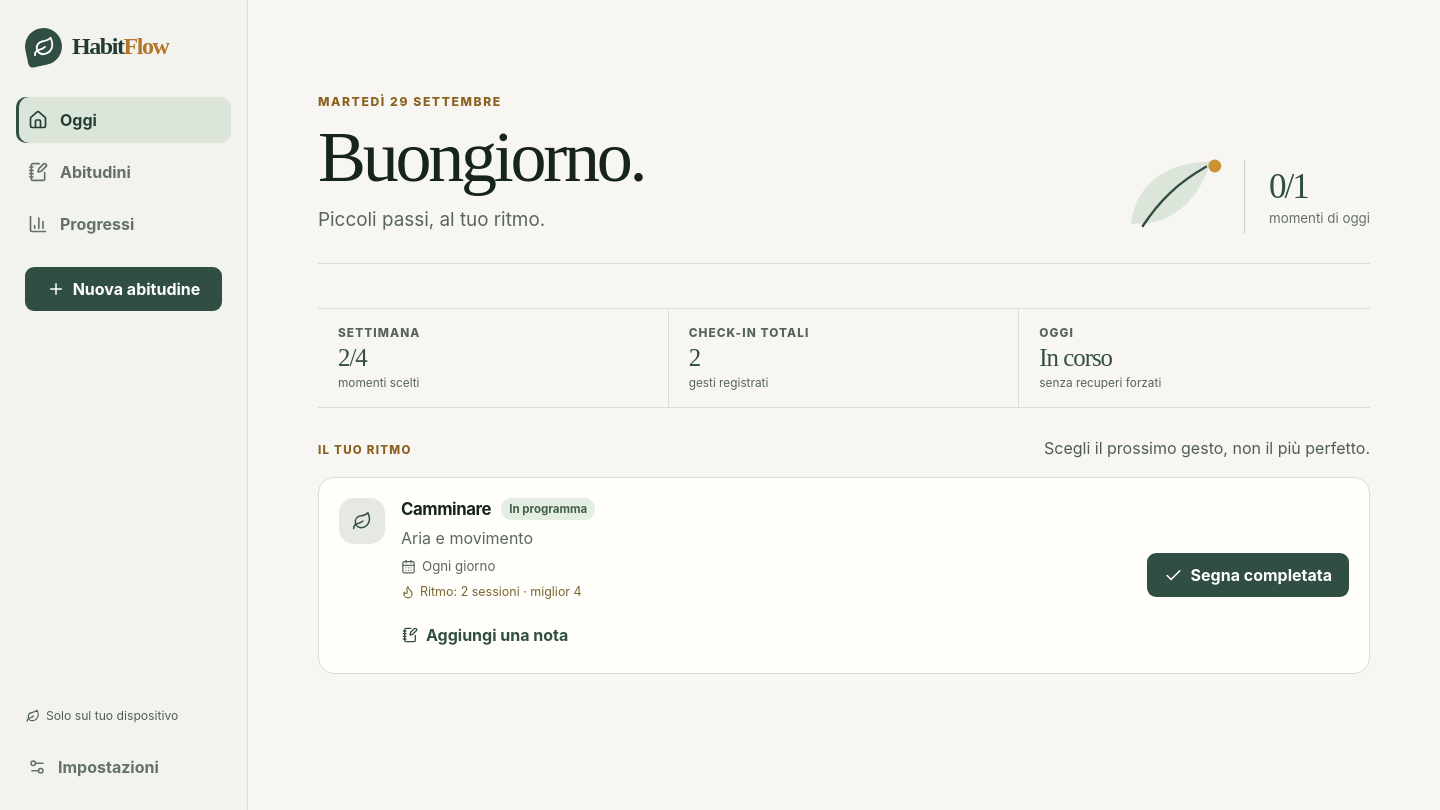
Test case: HabitFlow UI › retries analytics after an error instead of leaving a dead Retry control
The image size is (1440, 810).
Expected: the heading "Buongiorno." is shown, [318, 122, 644, 193]
Click the button "Progressi": (124, 224) [16, 201, 231, 247]
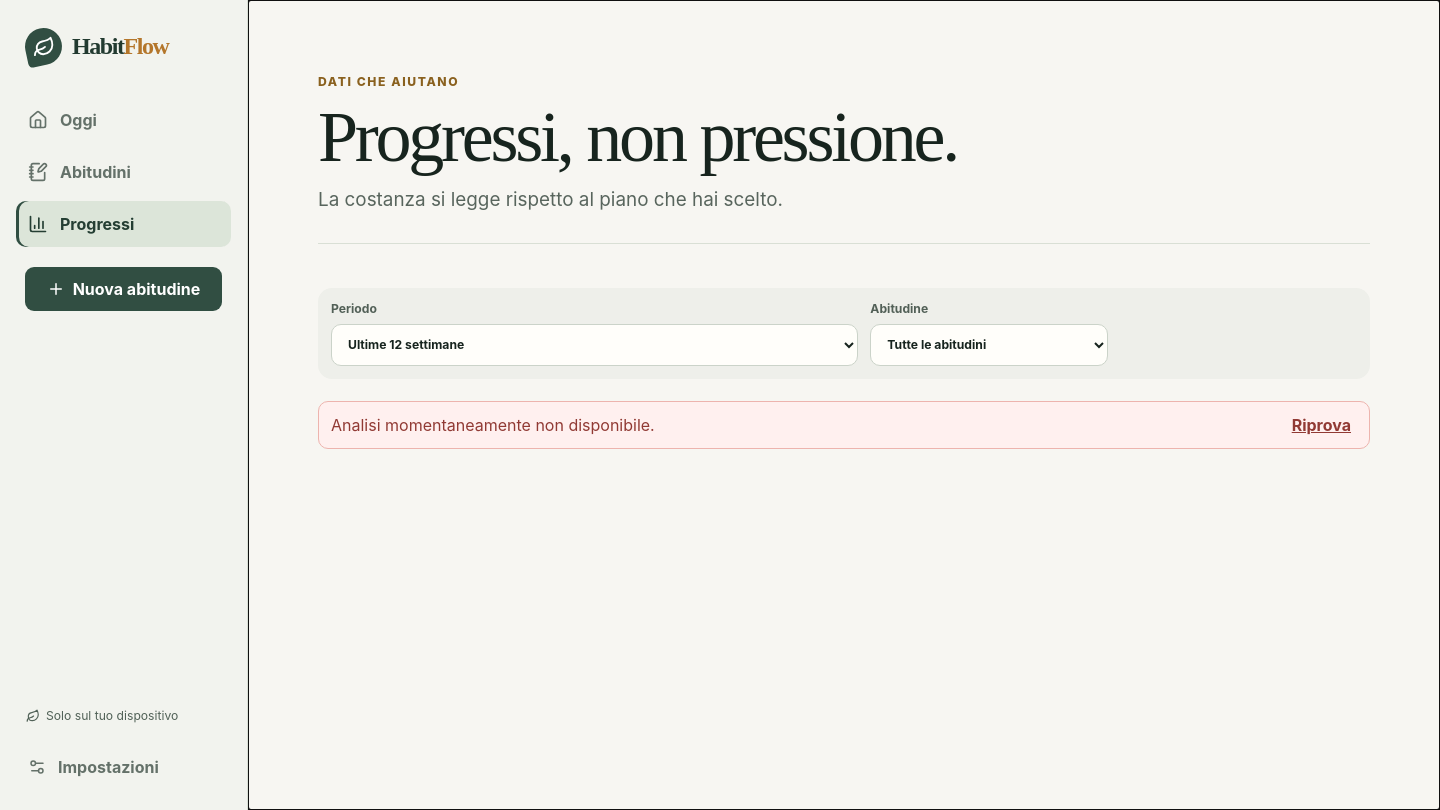
Expected: the text "Analisi momentaneamente non disponibile." is shown, [331, 415, 655, 435]
Click the button "Riprova": (1321, 425) [1286, 414, 1357, 436]
(page scrolled)
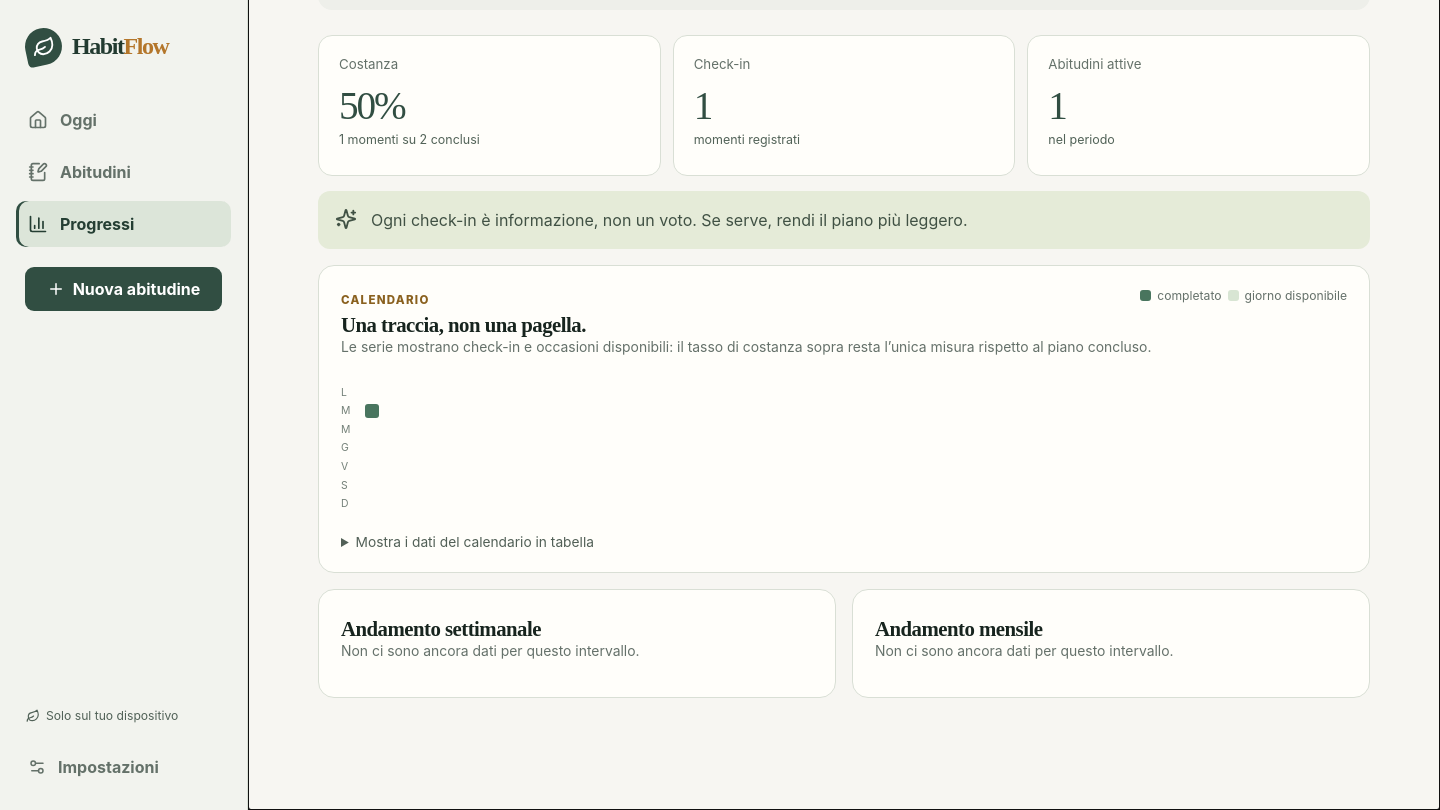
Expected: the picture named "Calendario dal 2026-09-01" is shown, [341, 386, 379, 510]
